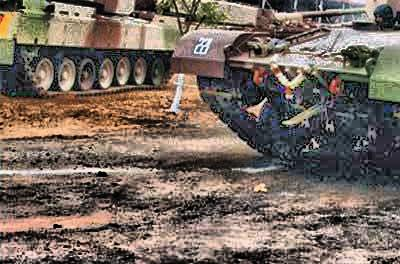tanks: (176, 1, 400, 159), (1, 1, 179, 97)
